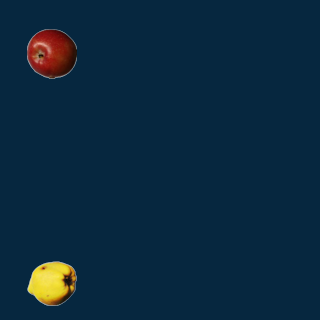Apple Braeburn: (26, 28, 76, 78)
Quince: (26, 258, 76, 308)
